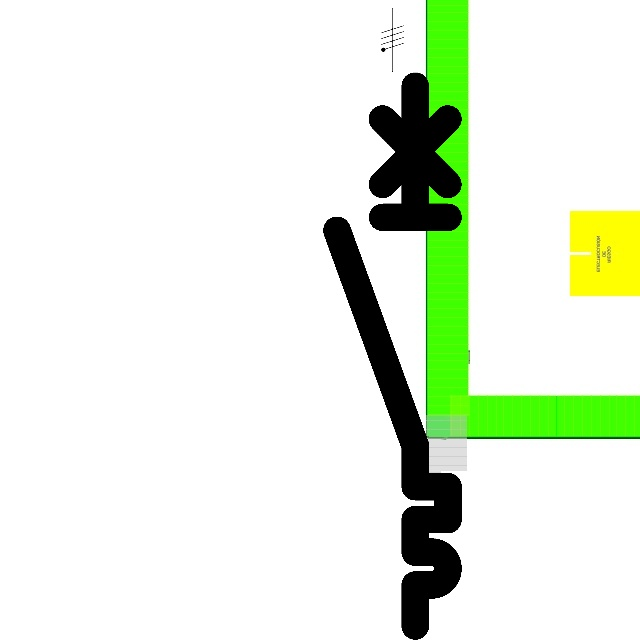interruptor_termomagnetico: (323, 72, 462, 640)
